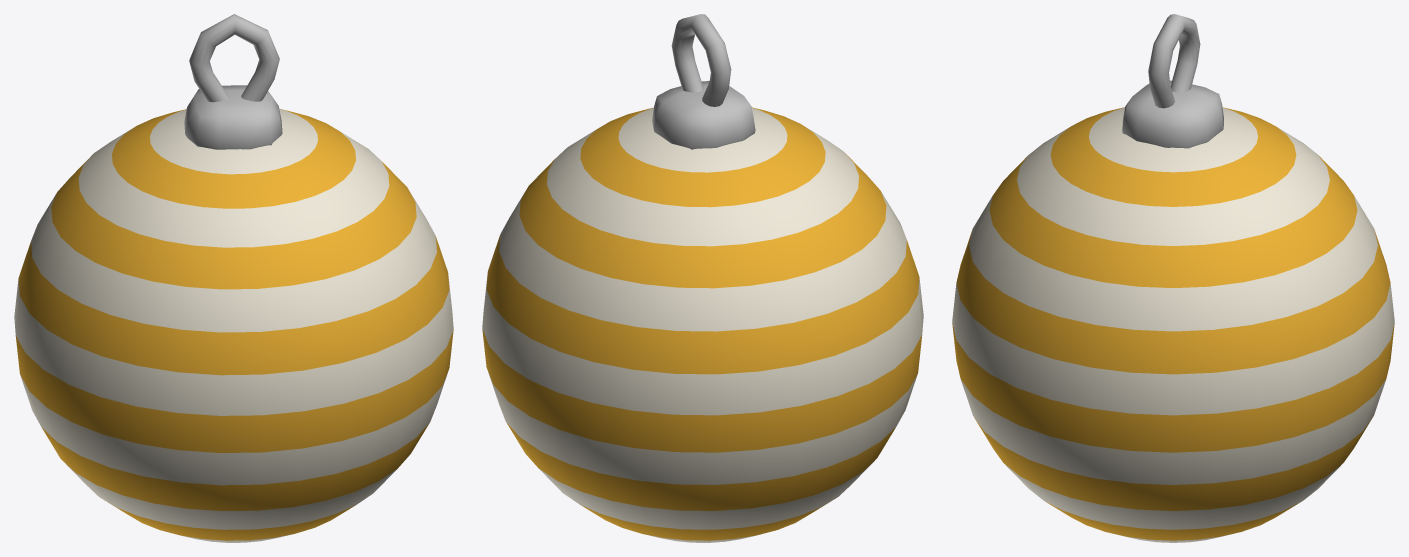
The model's file is decoration.glb.
The picture shows the model from 3 angles, left to right: view 1: azimuth 30°, elevation 25°; view 2: azimuth 150°, elevation 25°; view 3: azimuth 270°, elevation 25°; orthographic projection.
Parts seen in each view (by area): view 1: Cylinder.084; view 2: Cylinder.084; view 3: Cylinder.084.
Boxes of the visible parts, left/top/right/bottom form: Cylinder.084: left=14, top=14, right=453, bottom=542; Cylinder.084: left=482, top=14, right=923, bottom=542; Cylinder.084: left=952, top=14, right=1394, bottom=542.
Size of the model in its own units: 1.53 by 1.94 by 1.53.
